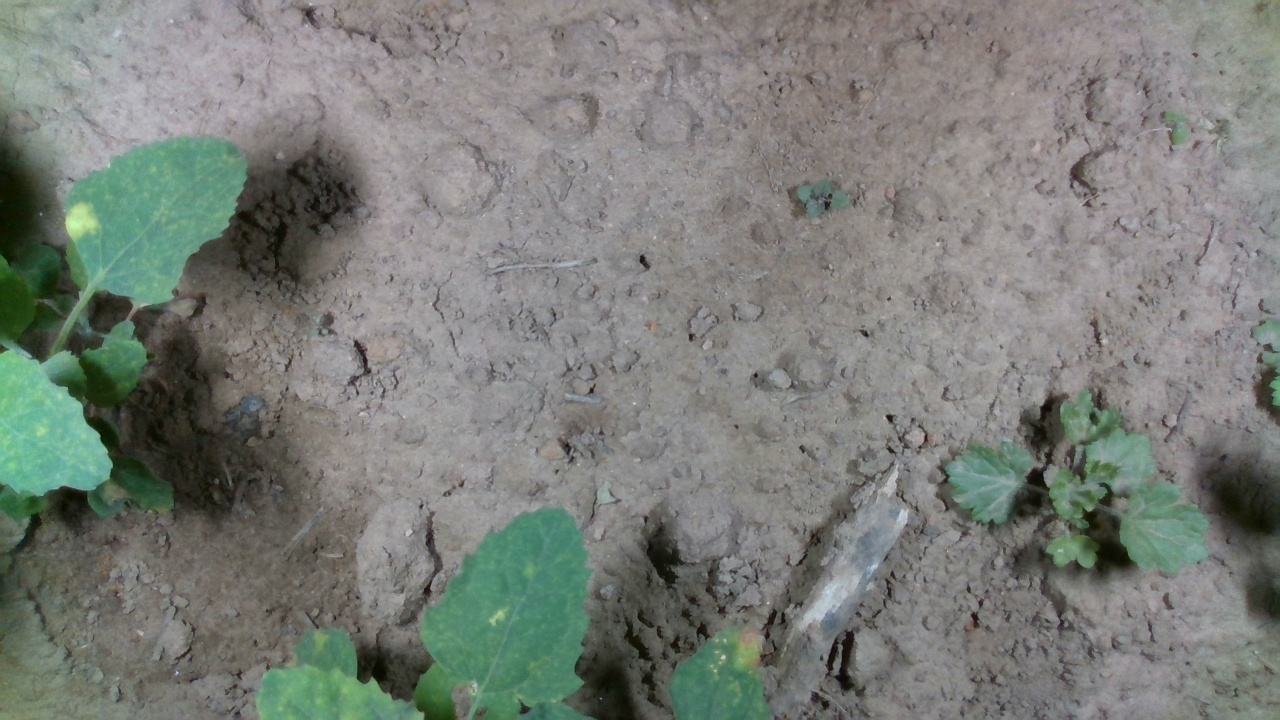weed: (793, 172, 845, 222), (1160, 107, 1194, 151)
